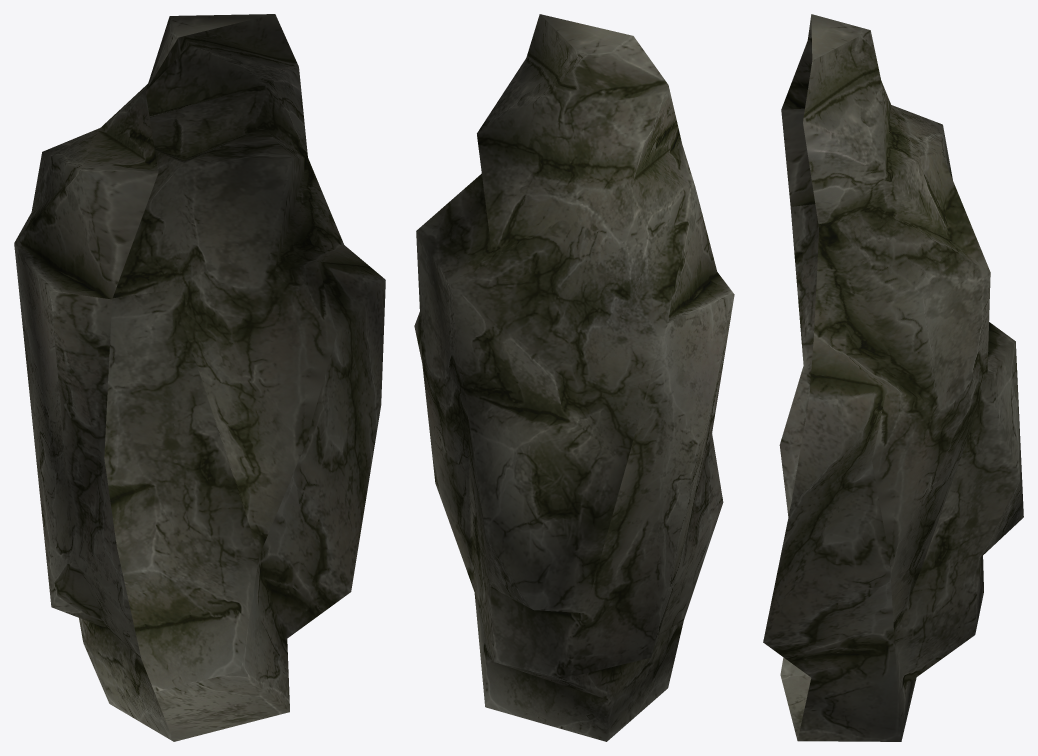
Rendered from AEP_Rock_04_Part_02.fbx.
The picture shows the model from 3 angles, left to right: view 1: azimuth 30°, elevation 25°; view 2: azimuth 150°, elevation 25°; view 3: azimuth 270°, elevation 25°; orthographic projection. The views are drawn at different scales.
Visible parts, largest first — view 1: AEP_Rock_04_Part_02; view 2: AEP_Rock_04_Part_02; view 3: AEP_Rock_04_Part_02.
Boxes of the visible parts, x1,y1,x2,y2 form: AEP_Rock_04_Part_02: [14, 14, 385, 741]; AEP_Rock_04_Part_02: [414, 14, 734, 741]; AEP_Rock_04_Part_02: [763, 14, 1023, 741].
Size of the model in its own units: 2.96 by 6.09 by 2.12.
